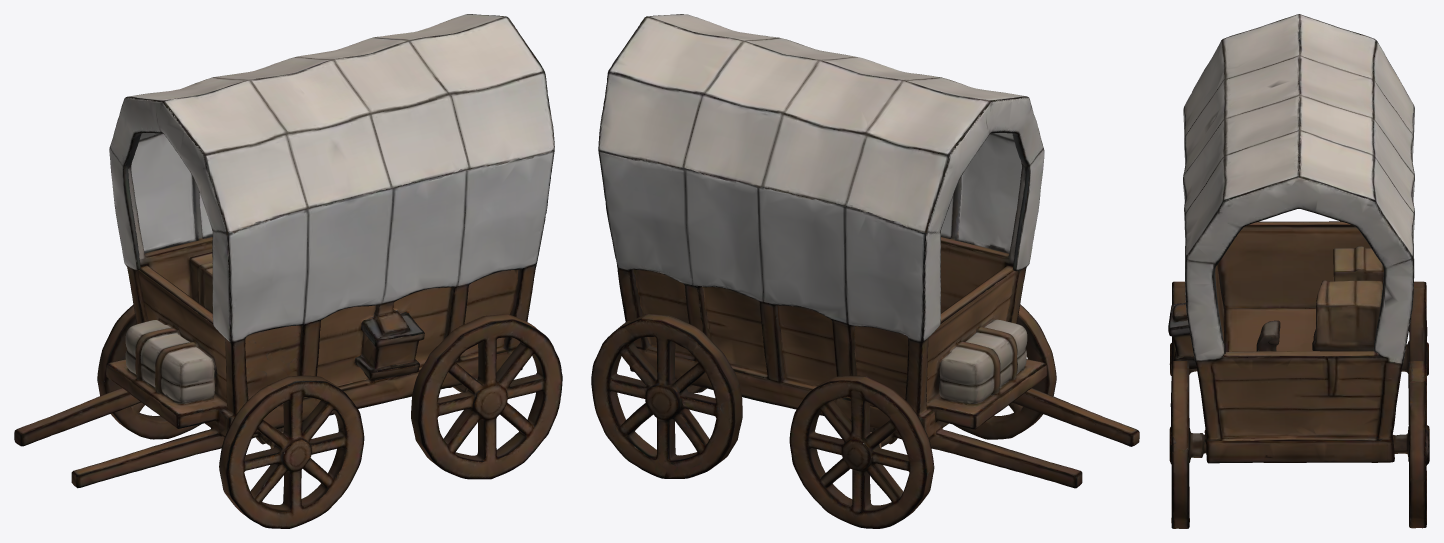
Rendered from settler-optimized.glb.
The picture shows the model from 3 angles, left to right: view 1: azimuth 30°, elevation 25°; view 2: azimuth 150°, elevation 25°; view 3: azimuth 270°, elevation 25°; orthographic projection. The views are drawn at different scales.
Parts seen in each view (by area): view 1: world; view 2: world; view 3: world.
Boxes of the visible parts, x1=… form: world: x1=14, y1=14, x2=562, y2=528; world: x1=591, y1=14, x2=1139, y2=528; world: x1=1168, y1=14, x2=1429, y2=528.
Bounding box in the file's own units: 1 × 0.8169 × 0.5038.
Materials: 1 (1 with a texture image).
